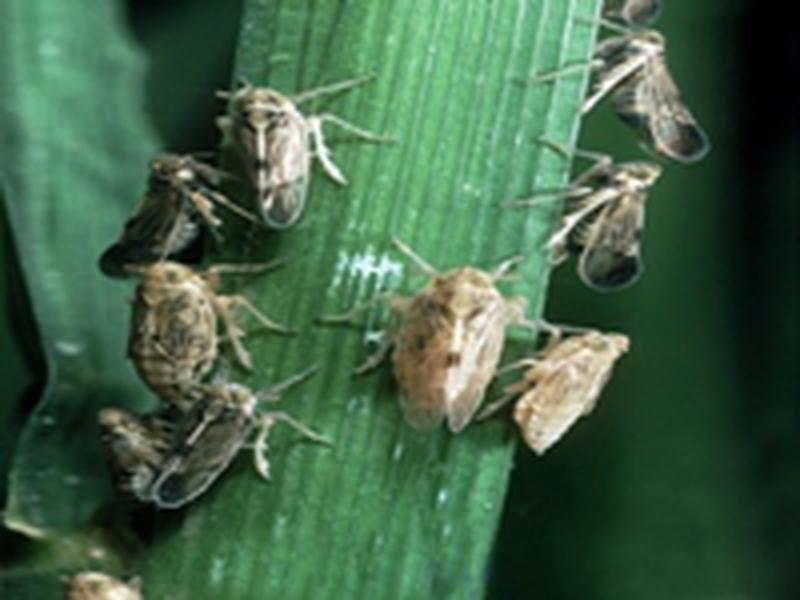White_backed_plant_hopper: (365, 263, 507, 431), (88, 386, 255, 516), (567, 24, 710, 164), (516, 321, 633, 464), (218, 84, 329, 228), (118, 248, 224, 384), (568, 165, 653, 304)
